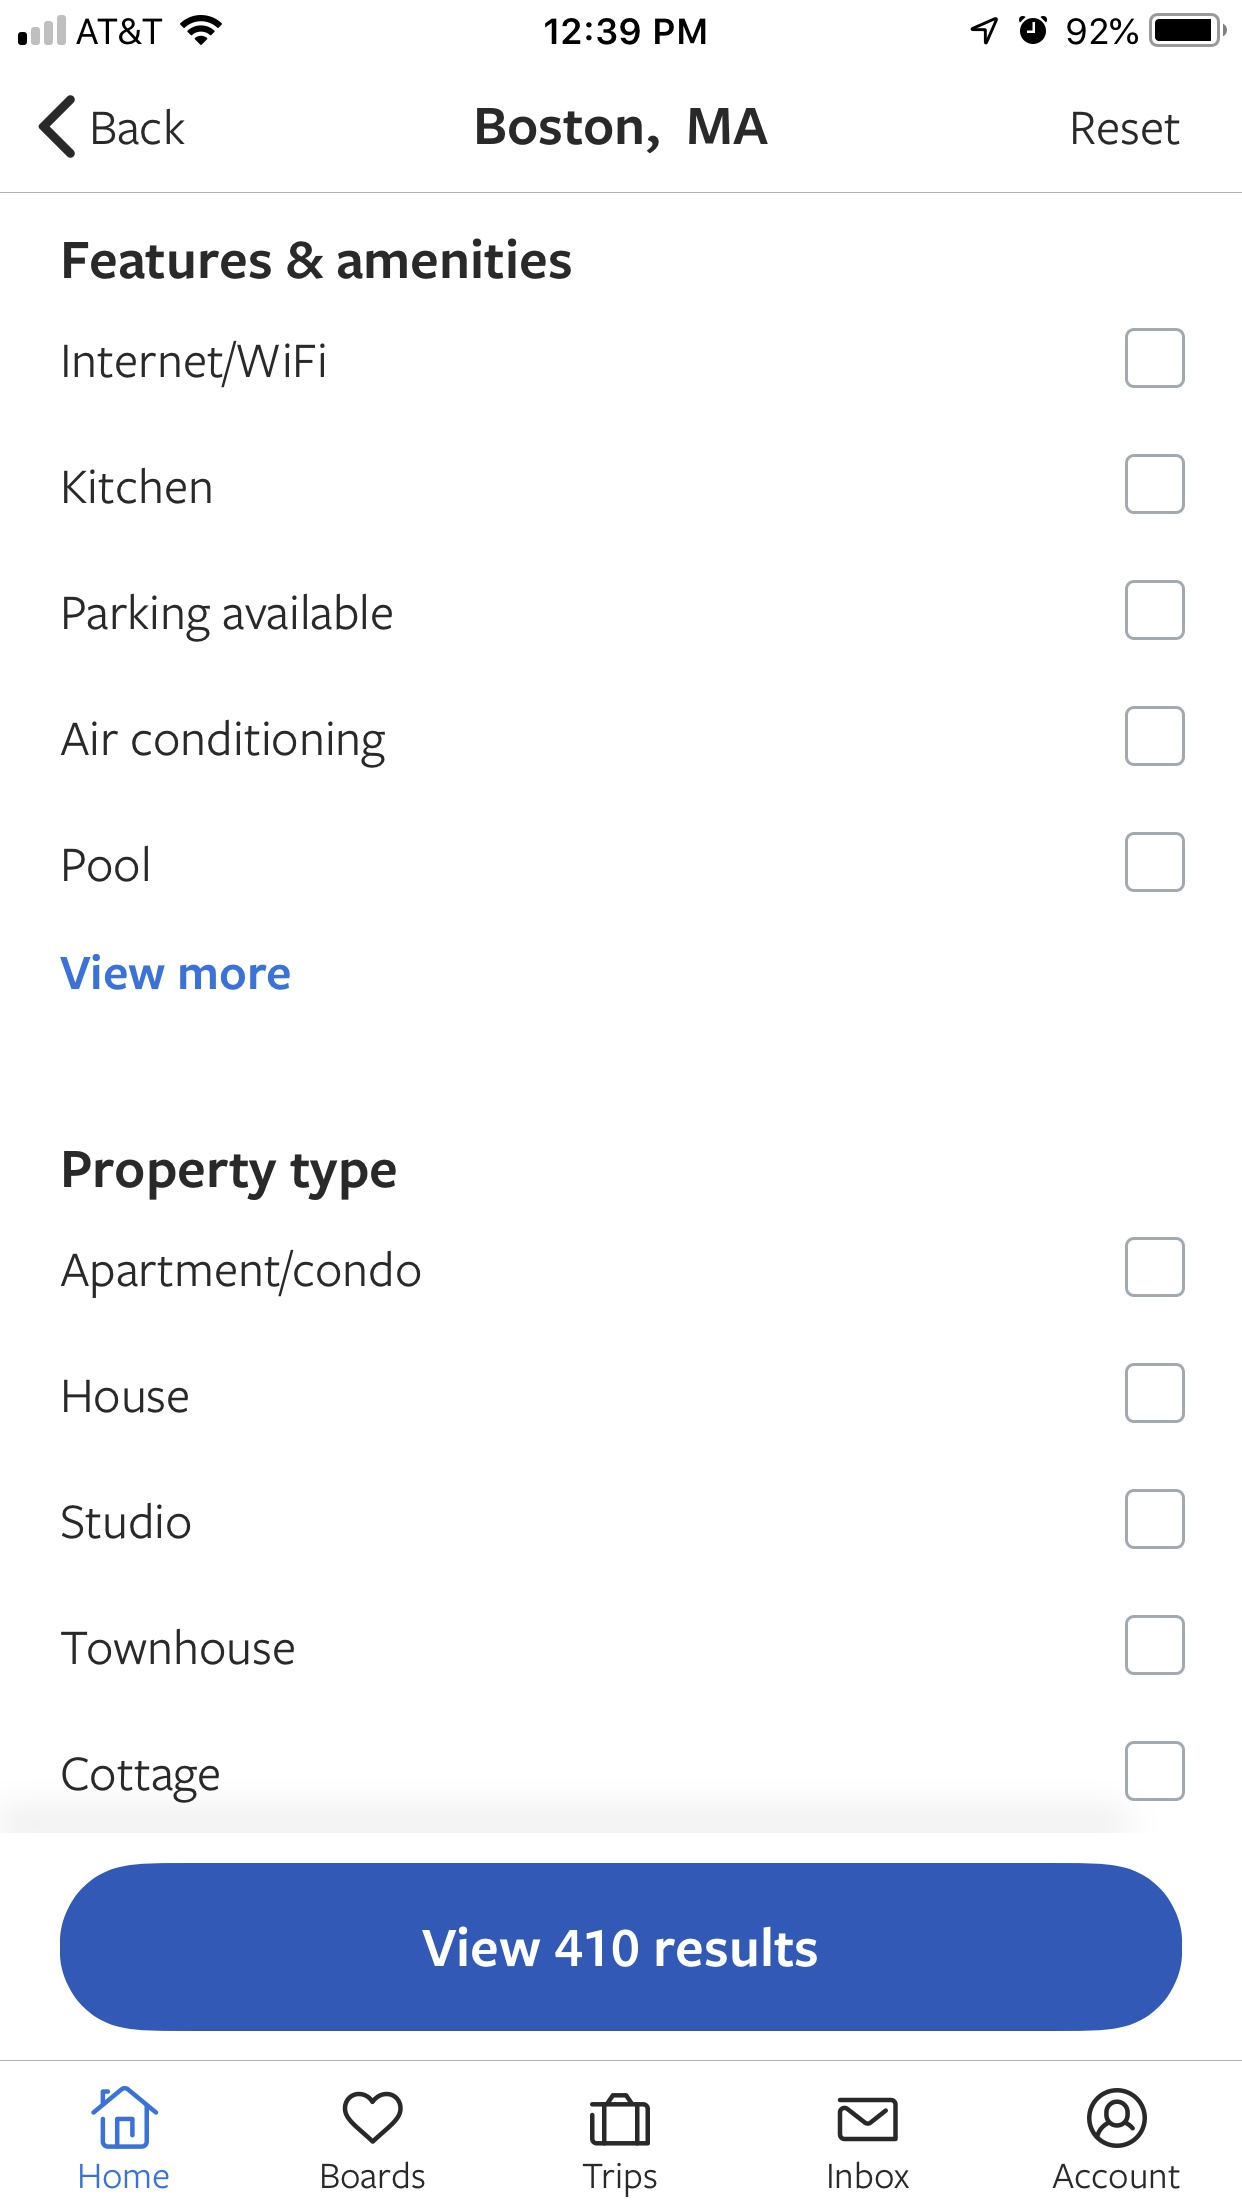CheckedTextView: (62, 1741, 1186, 1805), (64, 579, 1186, 643), (61, 707, 1186, 769), (61, 1614, 1186, 1676), (62, 1237, 1186, 1300), (64, 328, 1186, 390), (64, 453, 1186, 516), (64, 831, 1186, 893), (65, 1362, 1186, 1424), (61, 1489, 1186, 1550)
Icon: (93, 2085, 161, 2150), (1086, 2088, 1148, 2149), (590, 2093, 651, 2147), (343, 2091, 403, 2144), (837, 2096, 899, 2141), (39, 96, 77, 161)
Text: (64, 240, 572, 281), (62, 1250, 422, 1300), (64, 593, 393, 643), (61, 719, 387, 769), (64, 1153, 397, 1201), (476, 109, 767, 155), (64, 341, 326, 390), (61, 1629, 296, 1667), (61, 954, 291, 992), (62, 1756, 221, 1805), (64, 469, 212, 507), (61, 1501, 191, 1541), (1068, 111, 1181, 150), (65, 1378, 190, 1413), (93, 109, 187, 147), (1052, 2163, 1181, 2188), (64, 845, 150, 883), (321, 2161, 426, 2190), (582, 2163, 658, 2197), (830, 2159, 910, 2188), (80, 2163, 170, 2188)
TextButton: (58, 1862, 1183, 2032)
UpperTaskBar: (2, 2, 1242, 49)
